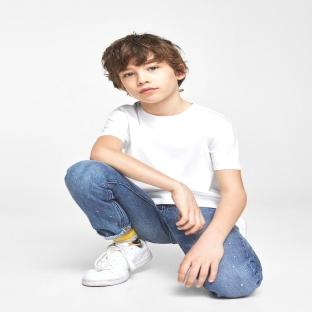Human: (64, 34, 262, 298)
